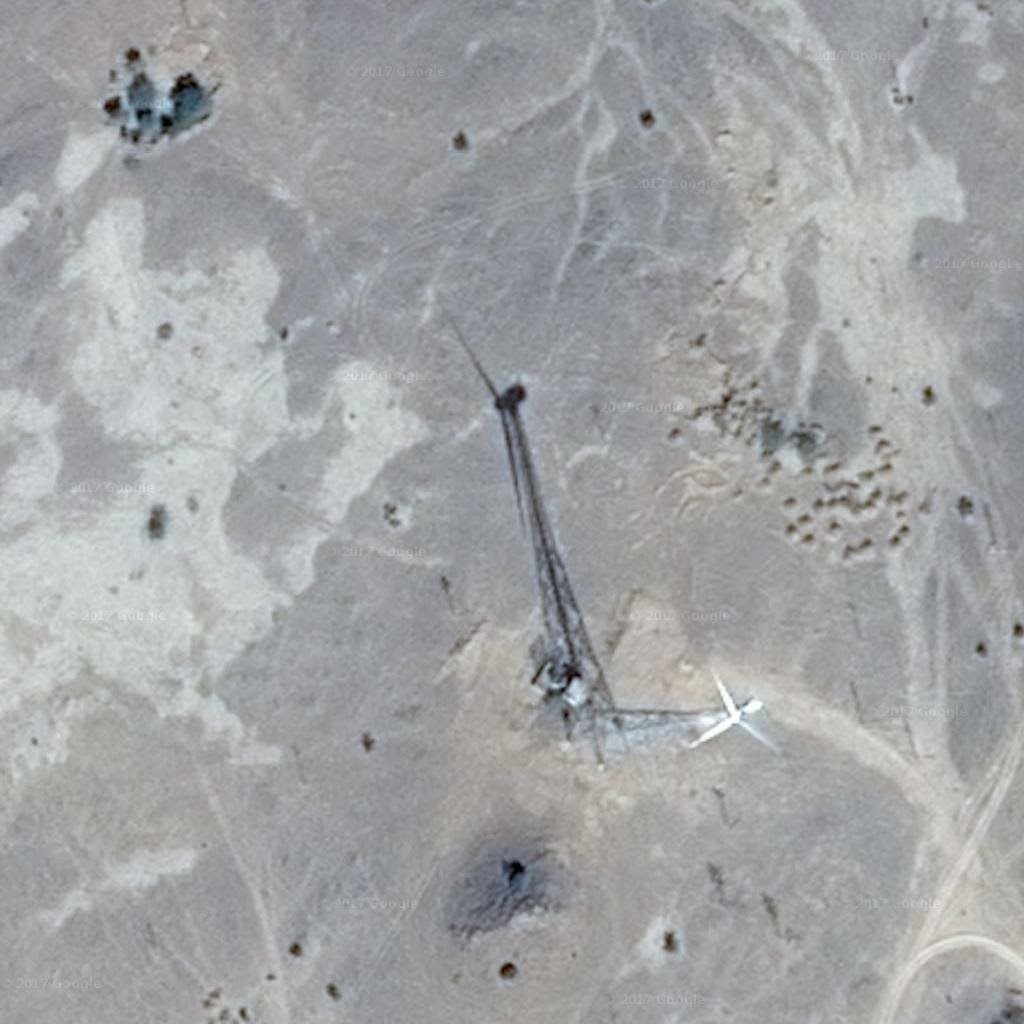Windmill: (427, 285, 636, 662)
